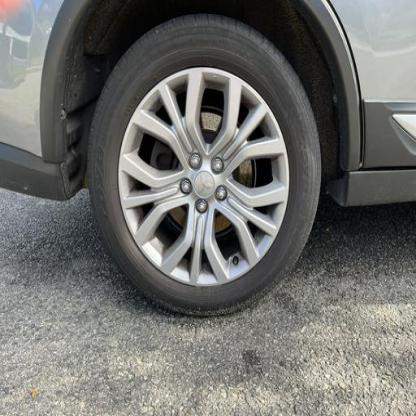Tire: (88, 11, 324, 319)
